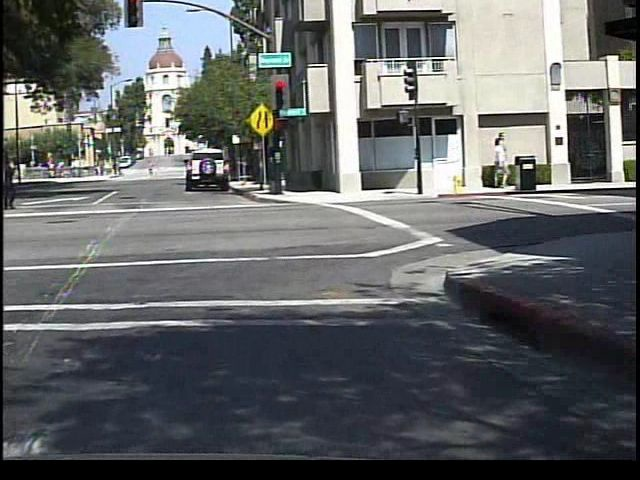person: (3, 169, 30, 229), (4, 156, 26, 213), (145, 161, 155, 179)
